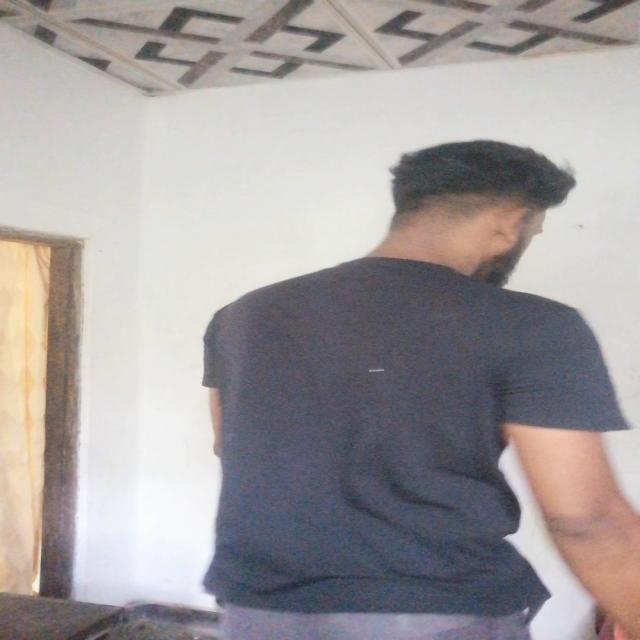Person: (182, 137, 640, 640)
